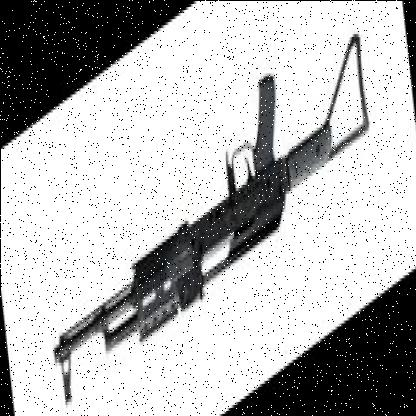rifle: (41, 0, 390, 410)
